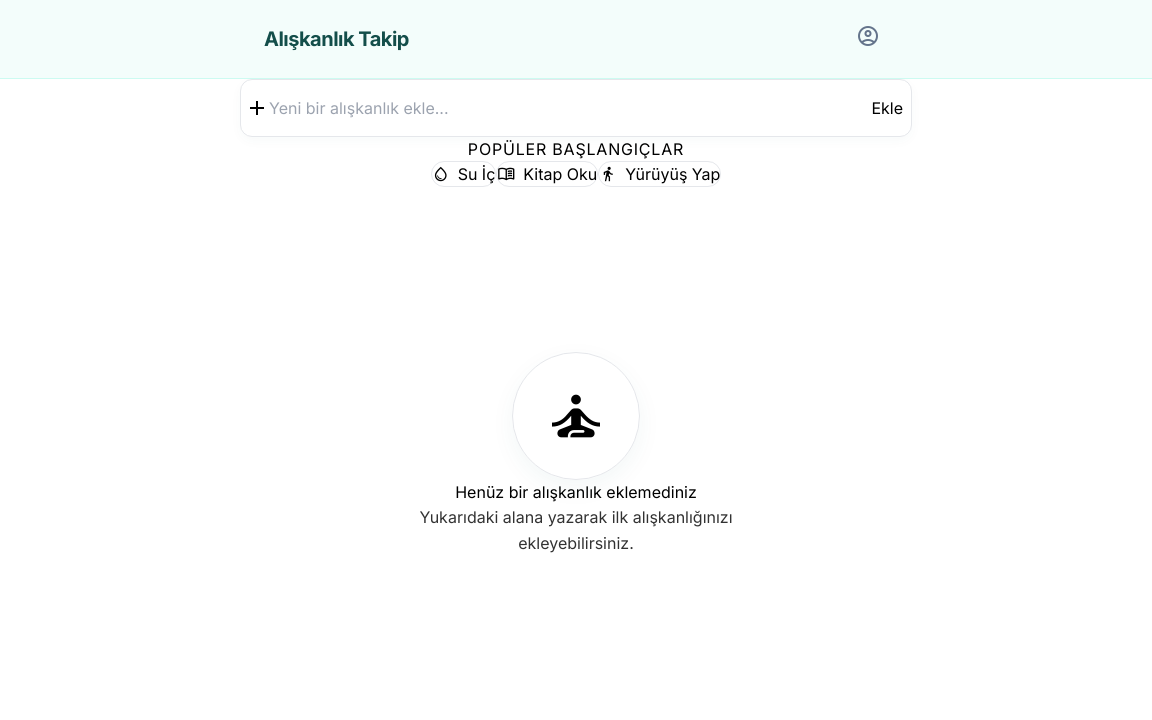
Scenario: App integration › returns to normal view after clearing storage error
This screenshot has width=1152, height=720.
Type "Yürüyüş Yap" into the field with placeholder "Yeni bir alışkanlık ekle..." at (570, 108), box x1=269 y1=84 x2=871 y2=132
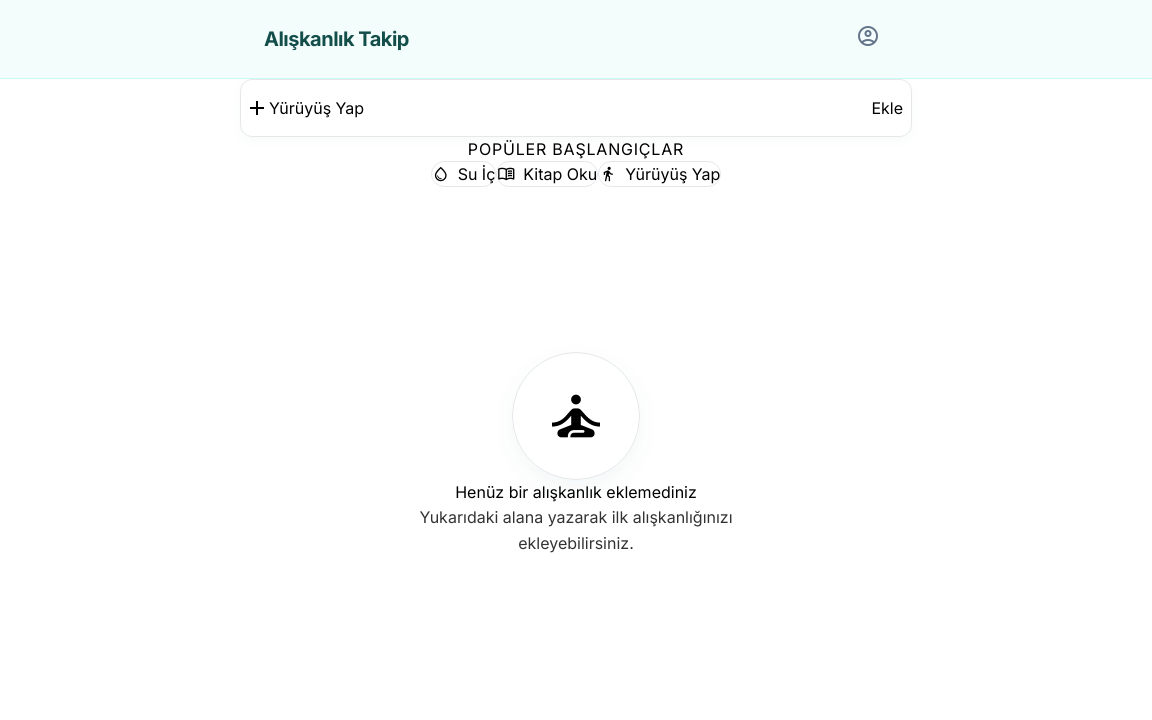
Press Enter in the field with placeholder "Yeni bir alışkanlık ekle...", box x1=269 y1=84 x2=871 y2=132
Wait 400 ms
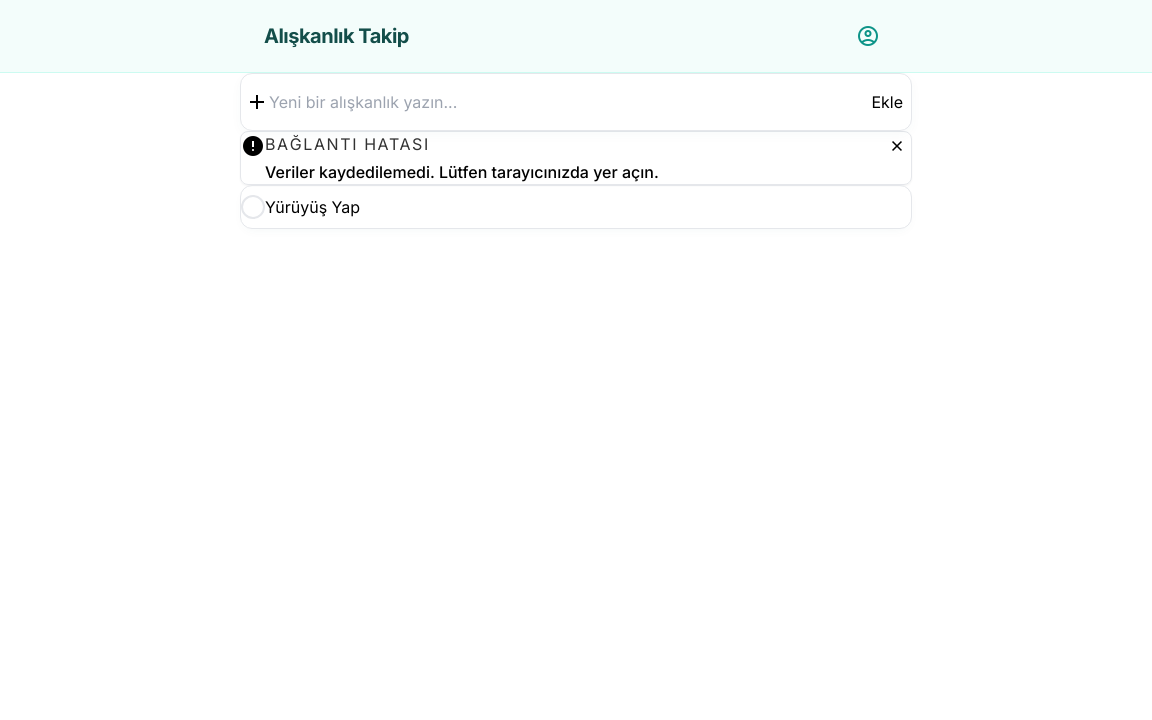
Expected: the heading "Bağlantı Hatası" is shown, x1=265 y1=134 x2=430 y2=154
Click the error banner close button
Click the button named "Hatayı kapat" at (897, 146), box x1=883 y1=132 x2=911 y2=160
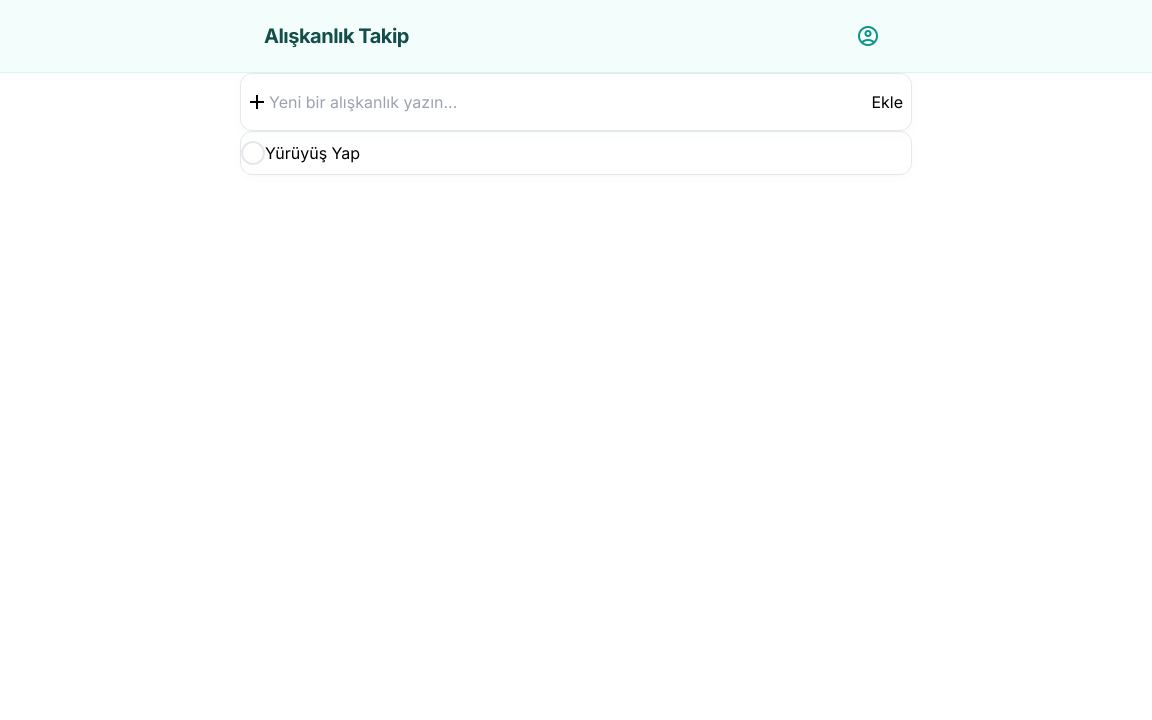
Expected: the text "Yürüyüş Yap" is shown, x1=265 y1=143 x2=360 y2=163
Expected: the heading "Bağlantı Hatası" is gone
